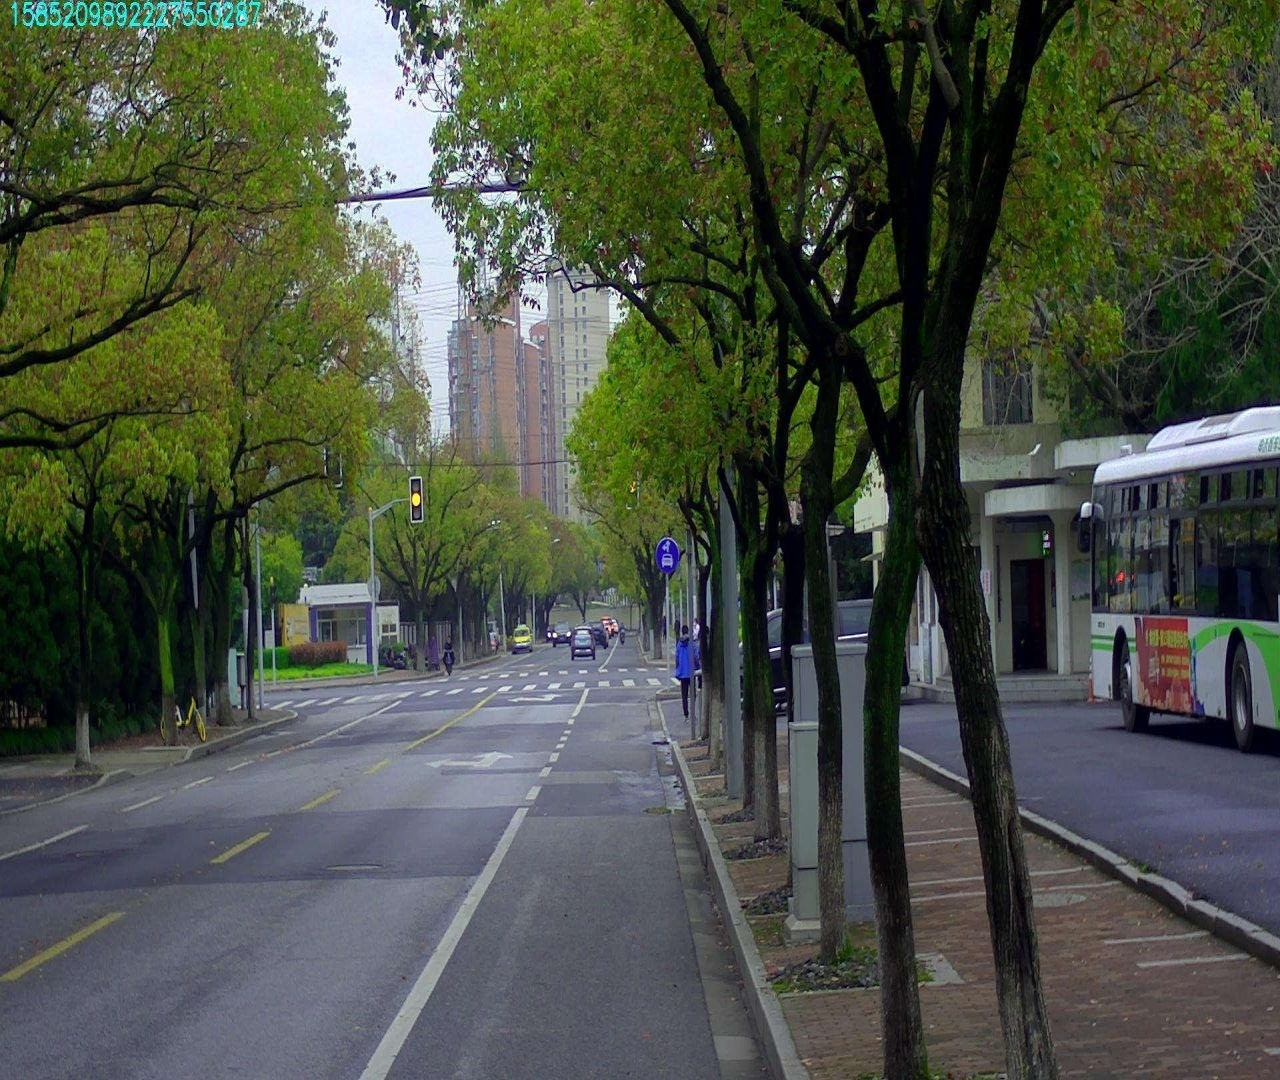yellow: (410, 477, 422, 522), (627, 471, 638, 506)
